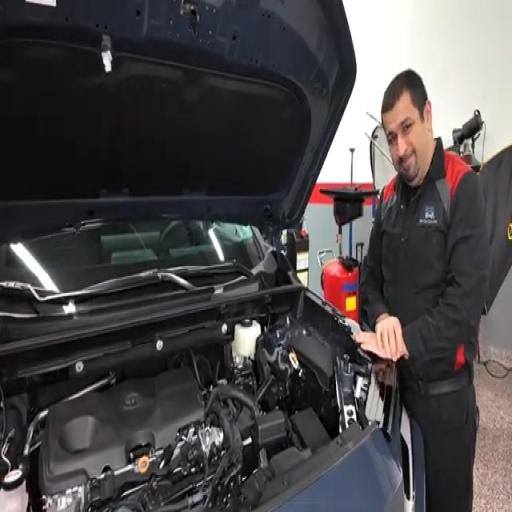bumper: (276, 430, 405, 511)
hood: (0, 0, 355, 241)
windshield: (0, 220, 261, 292)
